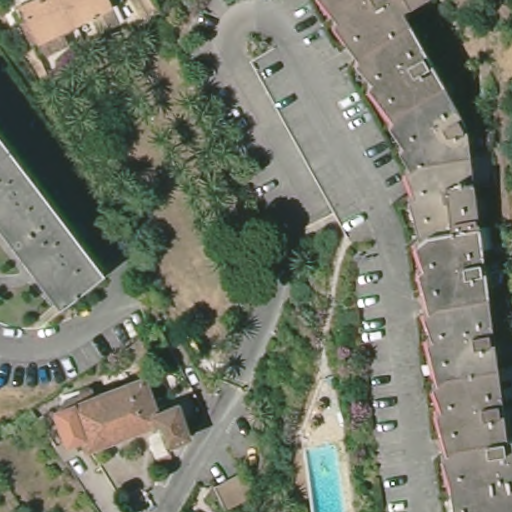pool: (300, 441, 349, 512)
